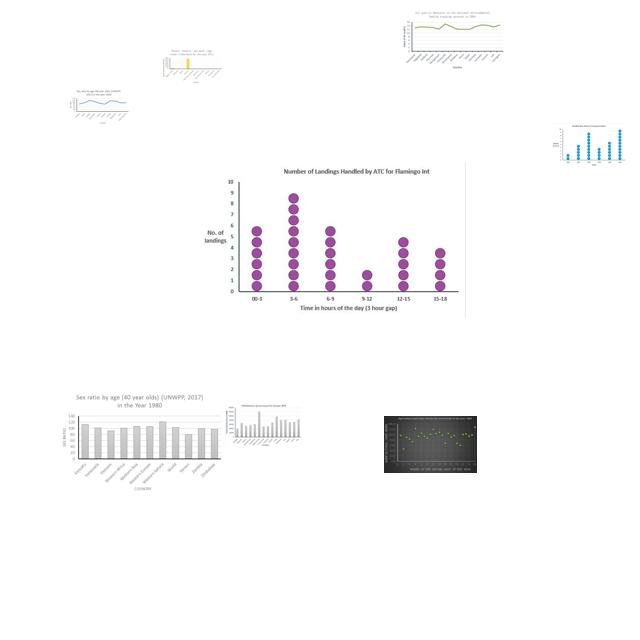Graph: (197, 162, 466, 318), (58, 391, 225, 493), (401, 10, 505, 71), (384, 416, 477, 473), (550, 123, 627, 168), (225, 404, 302, 447), (68, 89, 130, 125), (161, 49, 223, 85)
